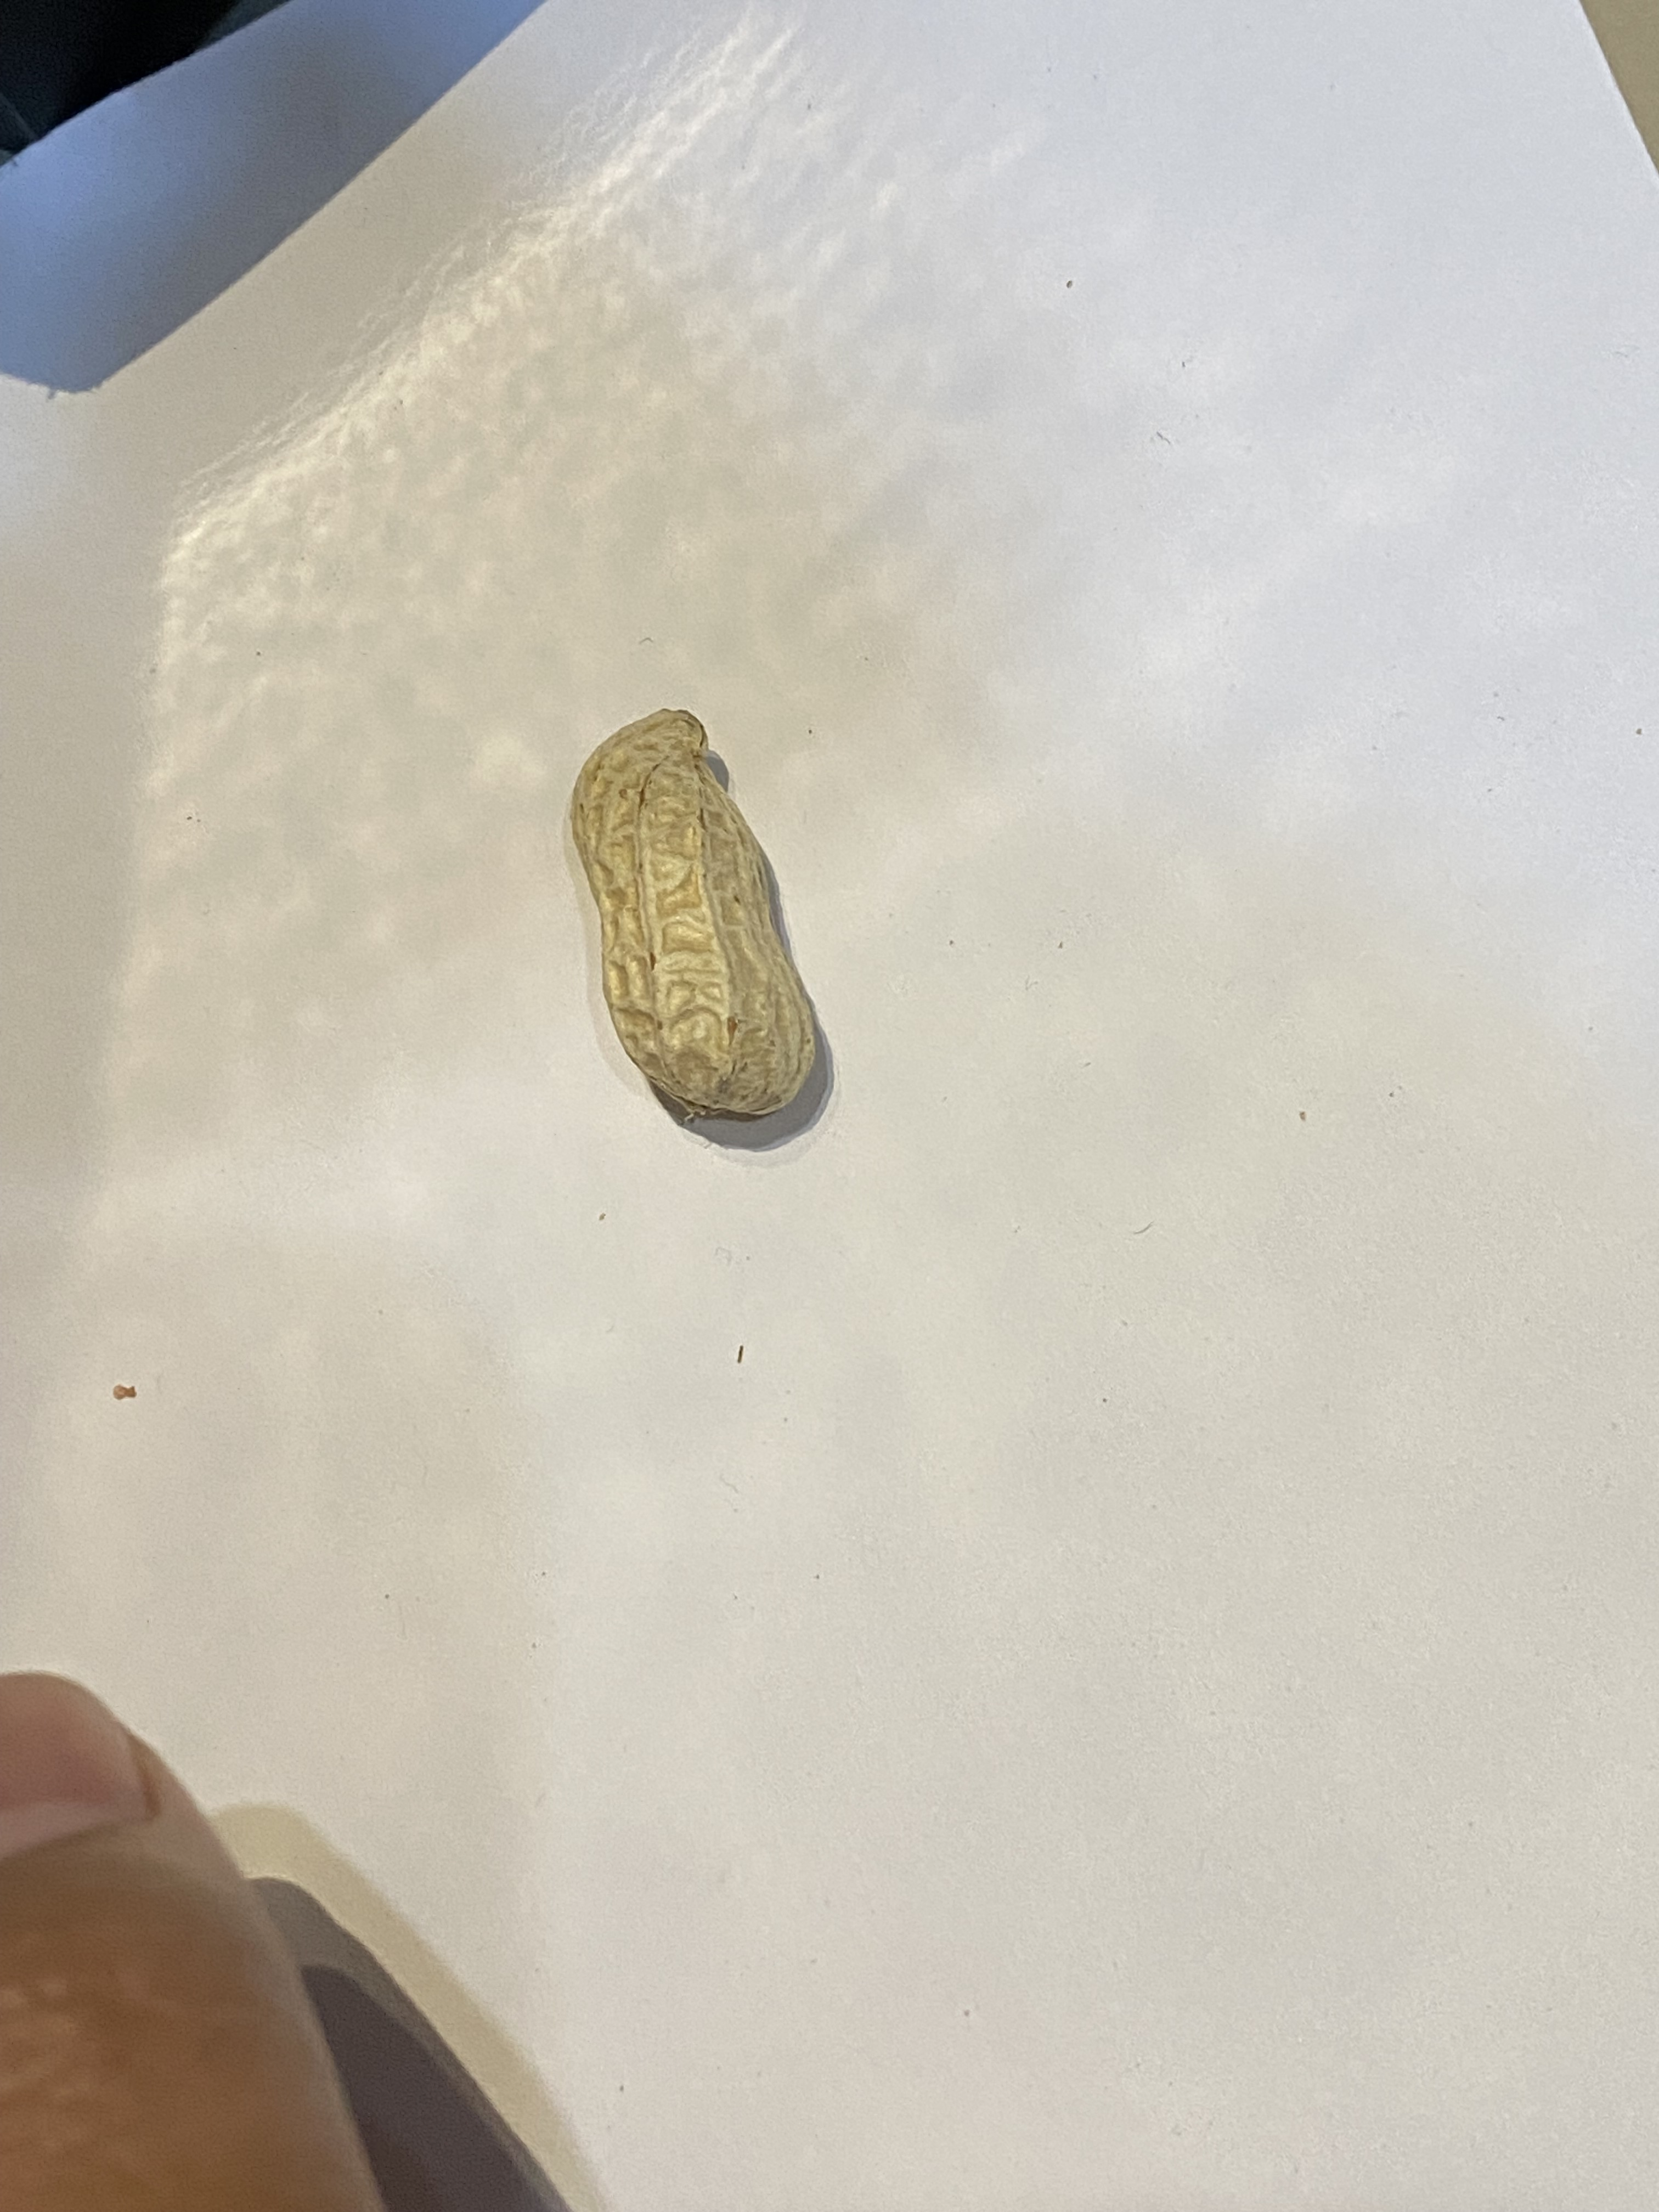kacang2: (538, 709, 878, 1123)
